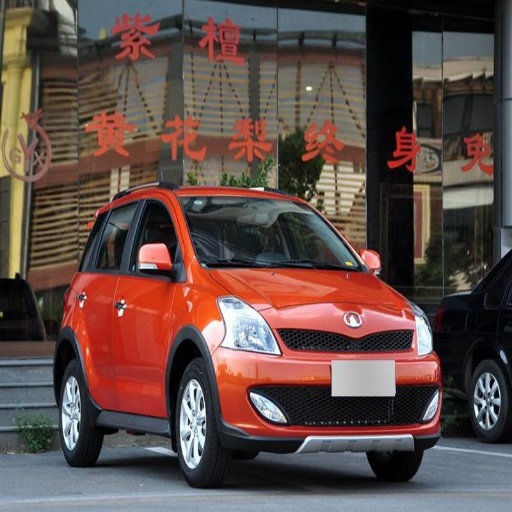front_bumper: (214, 326, 439, 450)
front_right_door: (116, 194, 183, 413)
front_right_light: (219, 299, 280, 356)
hood: (209, 269, 415, 338)
